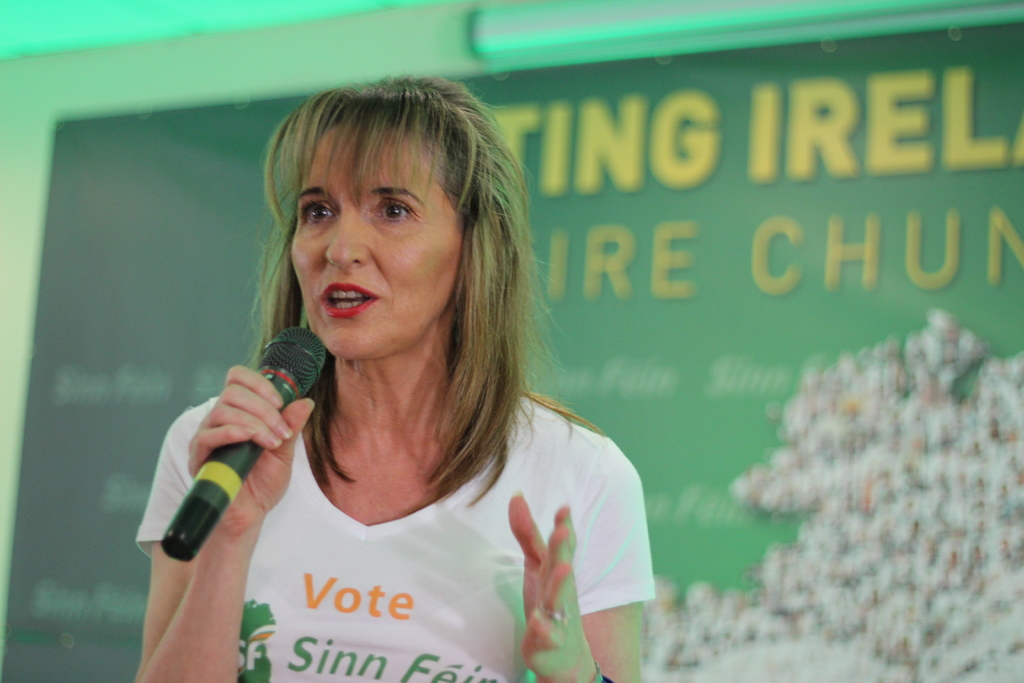Human-face: (292, 120, 468, 364)
